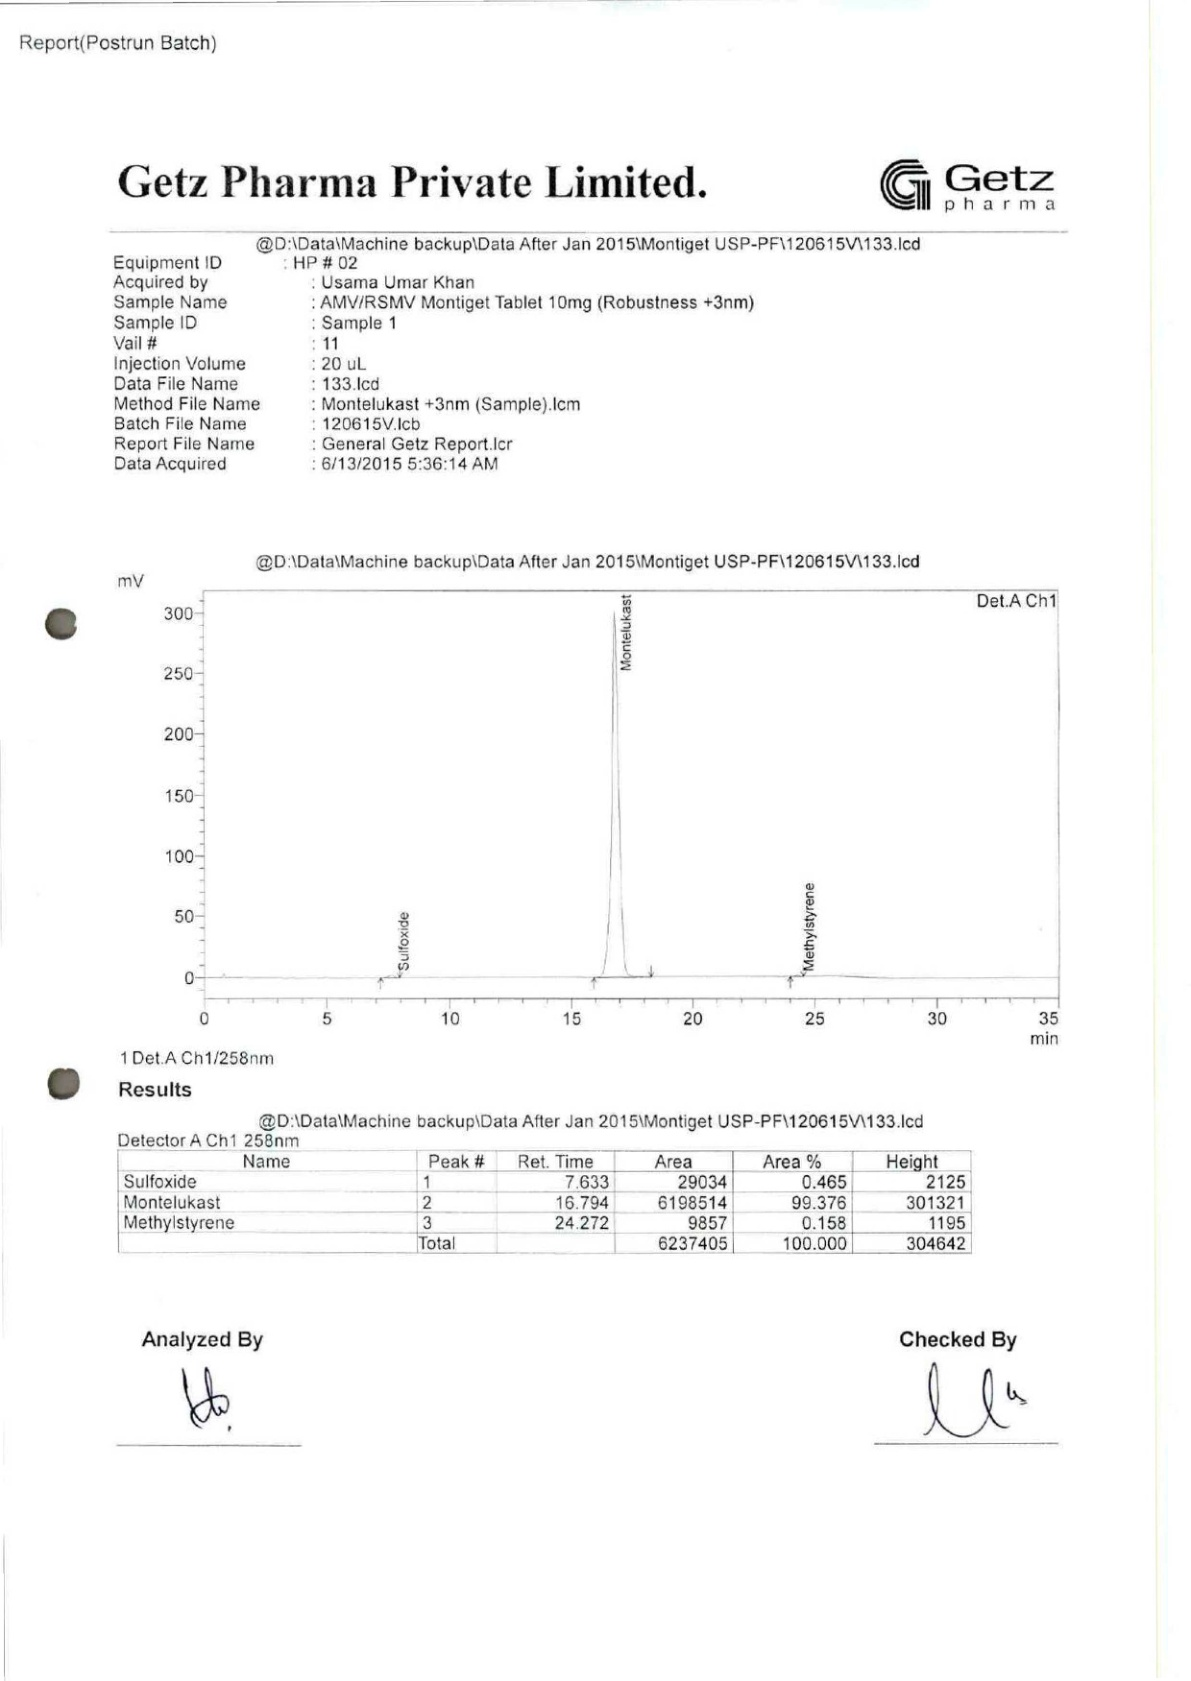full_lined: (116, 1149, 973, 1256)
nolines: (110, 253, 759, 474)
